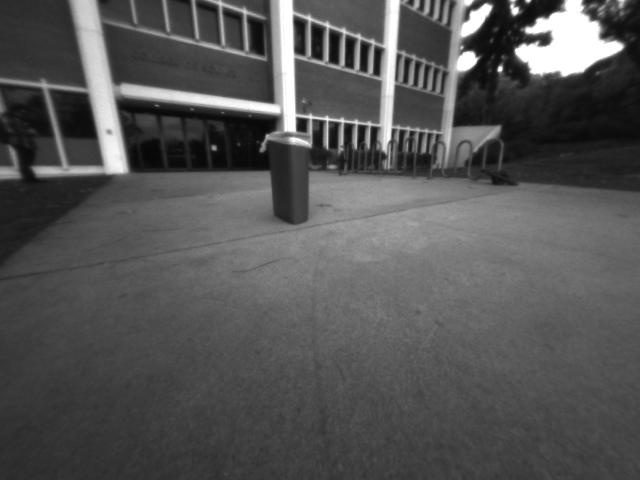trashcan_open: (258, 126, 316, 229)
